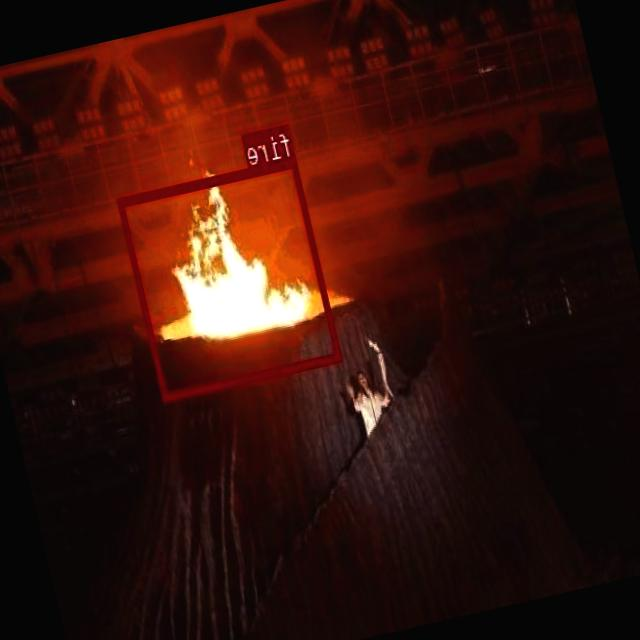fire: (118, 156, 343, 398)
